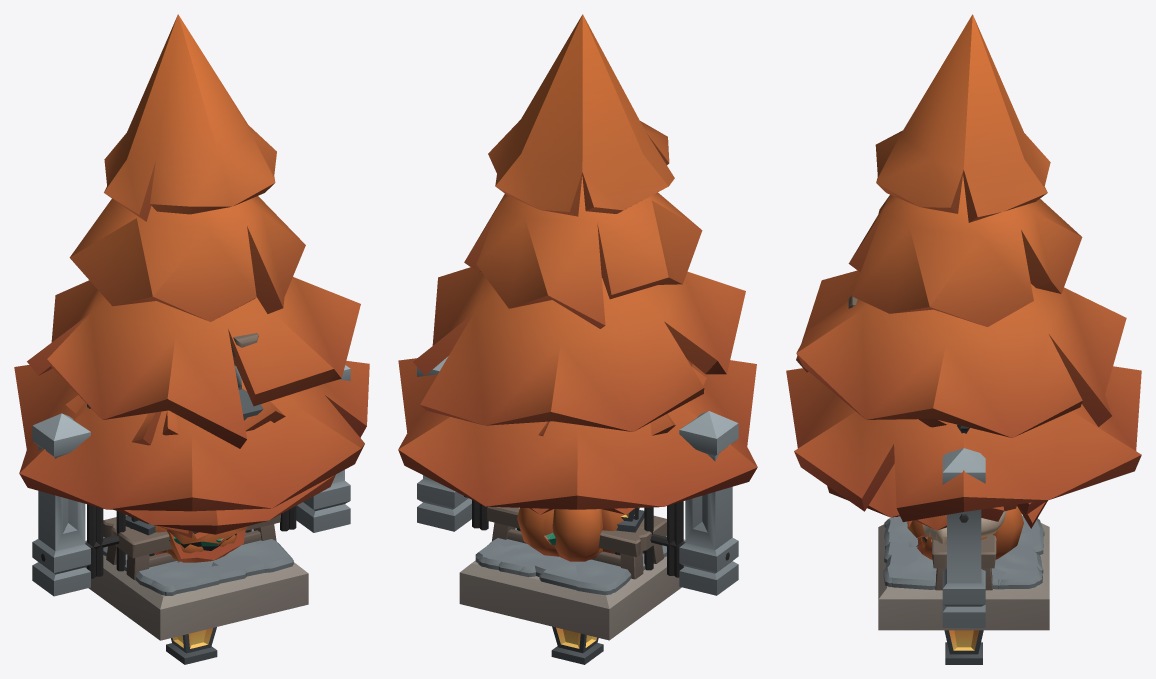
File: halloween.glb
The picture shows the model from 3 angles, left to right: view 1: azimuth 30°, elevation 25°; view 2: azimuth 150°, elevation 25°; view 3: azimuth 270°, elevation 25°; orthographic projection.
Visible parts, largest first — view 1: kk_tree_pine_orange_large, kk_fence_gate, kk_floor_dirt_small, kk_tree_pine_orange_medium, kk_bench_decorated, kk_path_B, kk_pumpkin_orange_jackolantern, kk_lantern_hanging, kk_path_A, kk_bench, kk_path_C, kk_fence_seperate (+1 smaller); view 2: kk_tree_pine_orange_large, kk_fence_gate, kk_floor_dirt_small, kk_pumpkin_orange_jackolantern, kk_bench_decorated, kk_bench, kk_path_C, kk_path_B, kk_lantern_hanging, kk_fence_seperate, kk_path_A, kk_path_D (+1 smaller); view 3: kk_tree_pine_orange_large, kk_floor_dirt_small, kk_fence_gate, kk_path_B, kk_path_C, kk_tree_pine_orange_medium, kk_pumpkin_orange_jackolantern, kk_bench_decorated, kk_lantern_hanging, kk_path_A, kk_tree_pine_orange_small, kk_bench.
Part boxes in pixels (box(x1,y1,x2,y2)): kk_tree_pine_orange_large: box(14, 14, 369, 511); kk_fence_gate: box(32, 365, 350, 596); kk_floor_dirt_small: box(85, 540, 308, 640); kk_tree_pine_orange_medium: box(65, 366, 335, 534); kk_bench_decorated: box(103, 514, 280, 580); kk_path_B: box(103, 529, 292, 595); kk_pumpkin_orange_jackolantern: box(141, 521, 247, 562); kk_lantern_hanging: box(166, 627, 217, 664); kk_path_A: box(103, 529, 293, 595); kk_bench: box(103, 514, 280, 579); kk_path_C: box(104, 537, 262, 591); kk_fence_seperate: box(41, 507, 288, 576); kk_tree_pine_orange_large: box(398, 14, 757, 509); kk_fence_gate: box(417, 356, 738, 595); kk_floor_dirt_small: box(459, 539, 685, 640); kk_pumpkin_orange_jackolantern: box(517, 508, 624, 561); kk_bench_decorated: box(492, 507, 666, 579); kk_bench: box(487, 506, 666, 578); kk_path_C: box(490, 536, 666, 582); kk_path_B: box(475, 527, 645, 595); kk_lantern_hanging: box(551, 626, 603, 664); kk_fence_seperate: box(479, 504, 729, 575); kk_path_A: box(478, 528, 666, 592); kk_path_D: box(502, 530, 614, 578); kk_tree_pine_orange_large: box(786, 14, 1141, 521); kk_floor_dirt_small: box(878, 523, 1049, 630); kk_fence_gate: box(942, 424, 985, 627); kk_path_B: box(885, 516, 1043, 589); kk_path_C: box(884, 518, 1043, 589); kk_tree_pine_orange_medium: box(827, 419, 1046, 521); kk_pumpkin_orange_jackolantern: box(907, 506, 1023, 559); kk_bench_decorated: box(922, 511, 1006, 590); kk_lantern_hanging: box(944, 630, 983, 664); kk_path_A: box(883, 515, 1044, 589); kk_tree_pine_orange_small: box(915, 500, 1047, 530); kk_bench: box(932, 535, 996, 589).
Bounding box in the file's own units: 4.76 × 8.23 × 4.16.
Materials: 2 (2 with a texture image).
